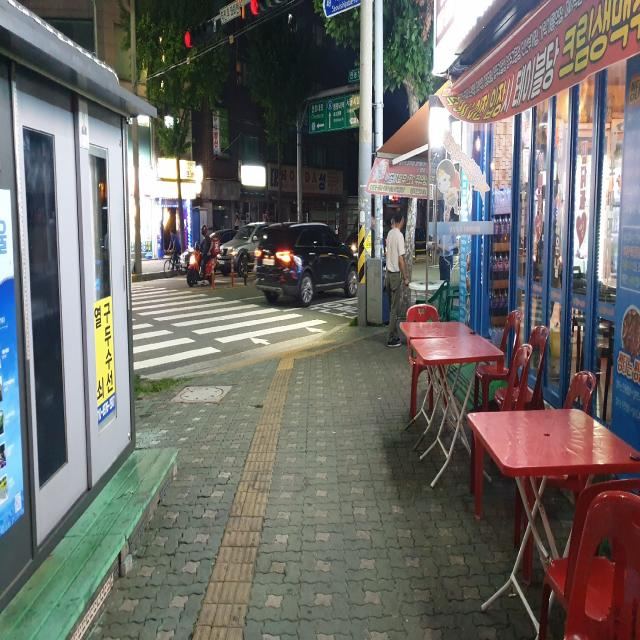횡단보도: (130, 282, 329, 372)
